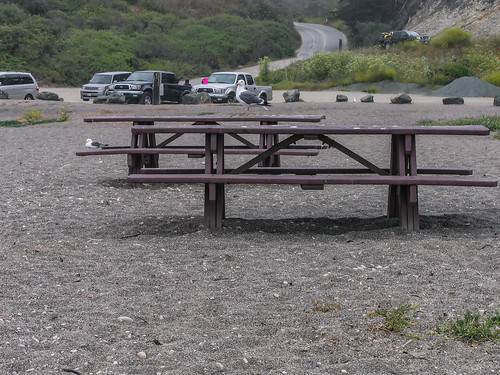animal: (232, 82, 270, 115)
bench: (143, 148, 494, 236), (68, 123, 321, 182)
car: (198, 66, 276, 111), (115, 65, 193, 110), (79, 67, 120, 100), (1, 68, 40, 101), (371, 32, 429, 47)
vegetation: (1, 1, 280, 69), (287, 41, 500, 91)
